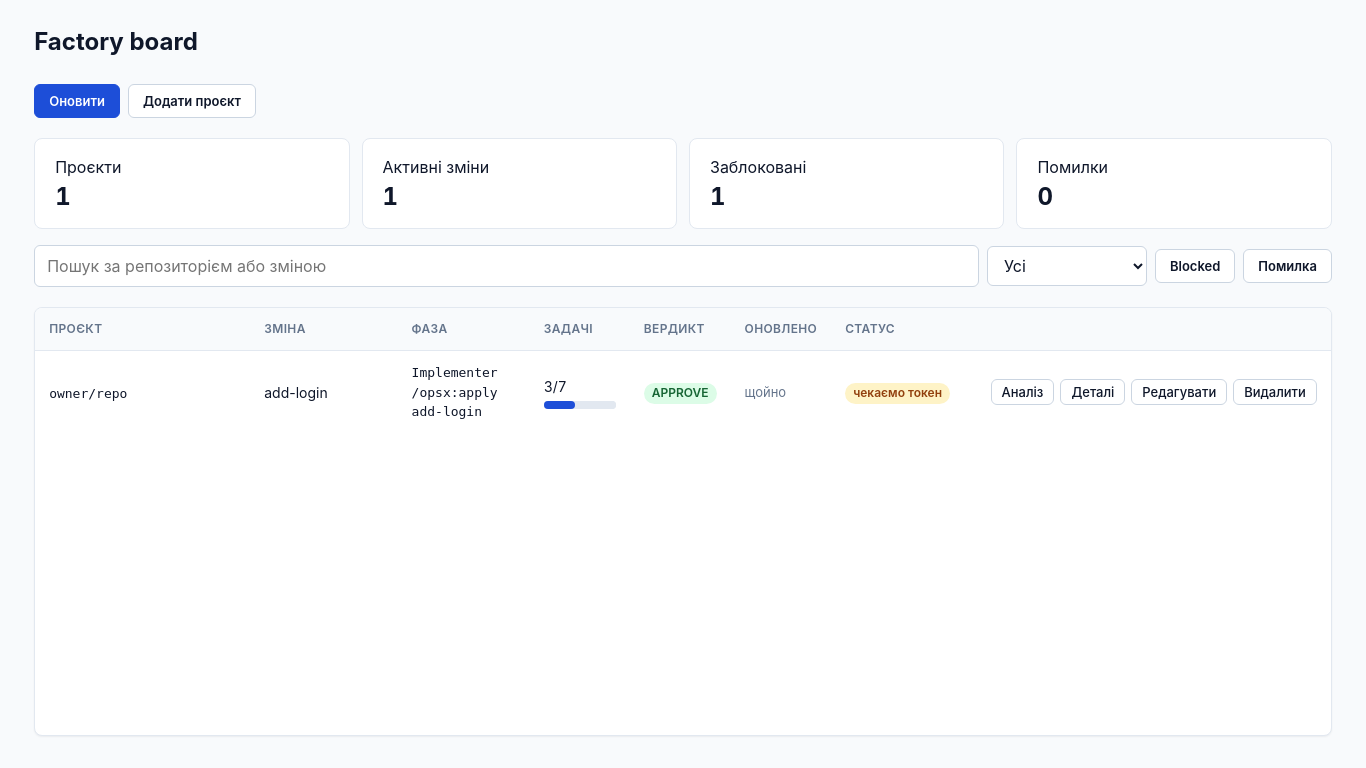
Scenario: BoardView › fetches extra artifacts when Деталі is clicked and closes the panel
Click the button "Деталі". click: (1093, 392)
box: [1060,379,1125,406]
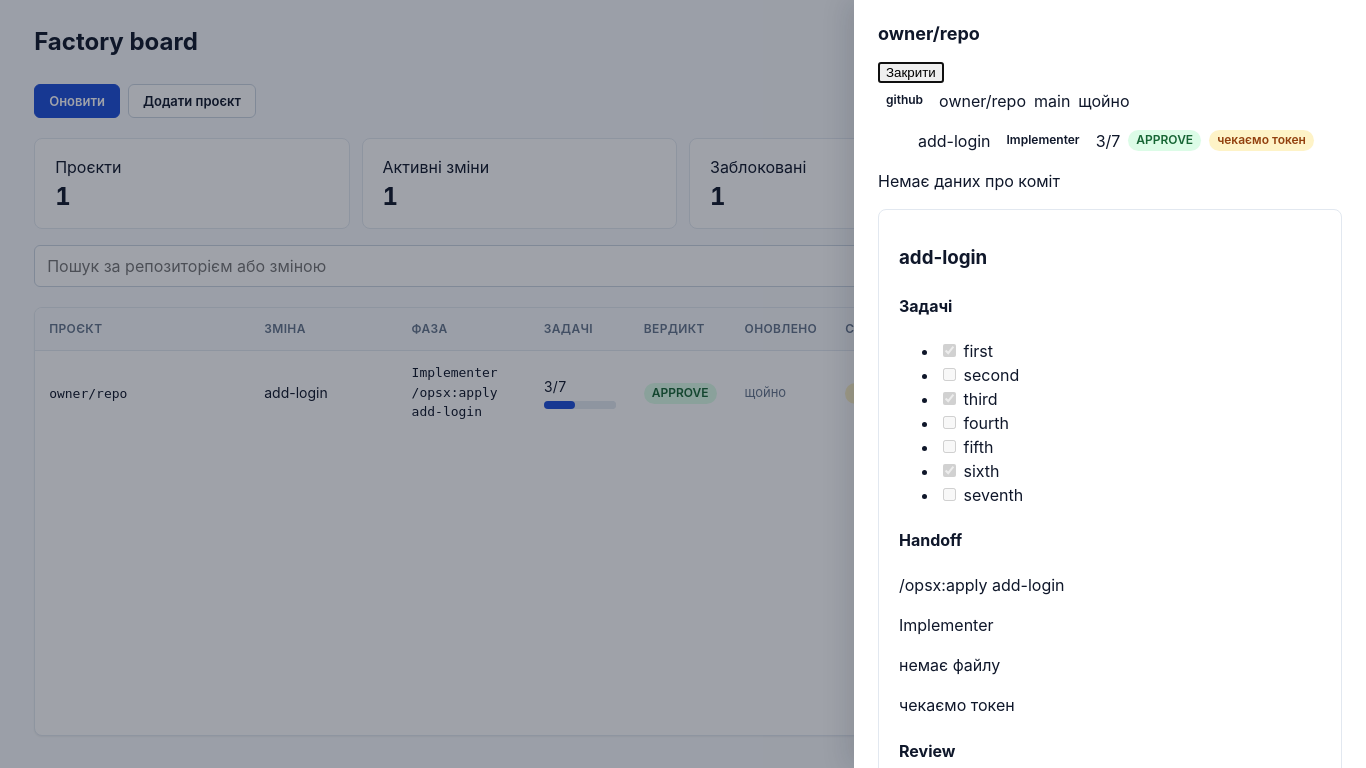
Expected: the dialog with class "board-detail-panel" is shown, [854,0,1365,767]
Click the button "Закрити". click: (911, 72)
box: [878,62,944,83]
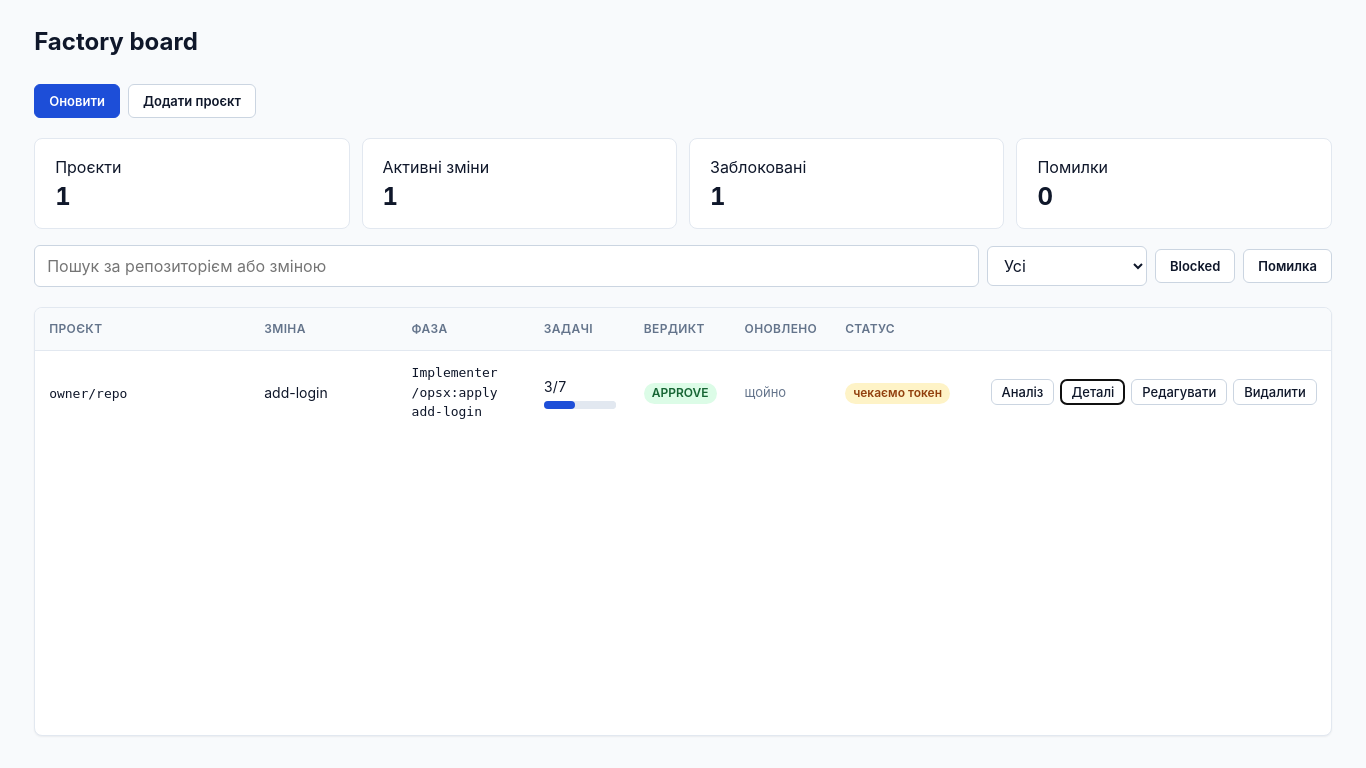
Expected: the dialog with class "board-detail-panel" is gone
Expected: the dialog is gone
